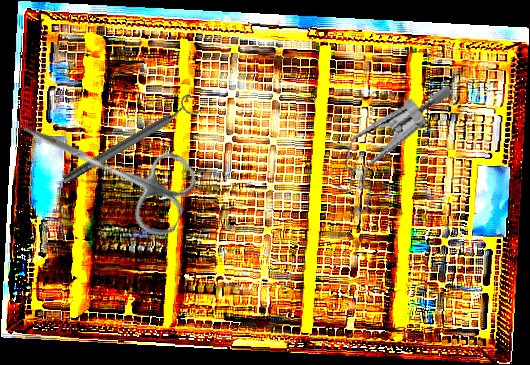Fixation Ring: (58, 92, 202, 190)
Iris Scissors: (4, 92, 204, 242)
Speculum: (328, 63, 454, 234)
